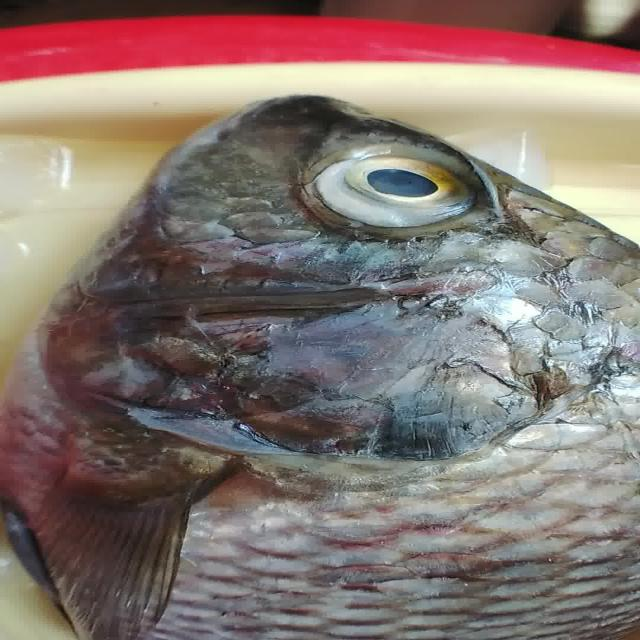Fresh: (7, 278, 640, 639), (330, 139, 533, 239)
